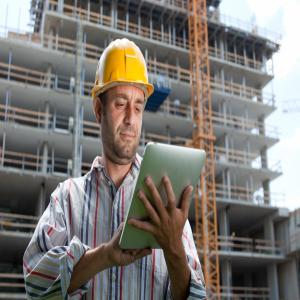yellow: (93, 41, 153, 167)
